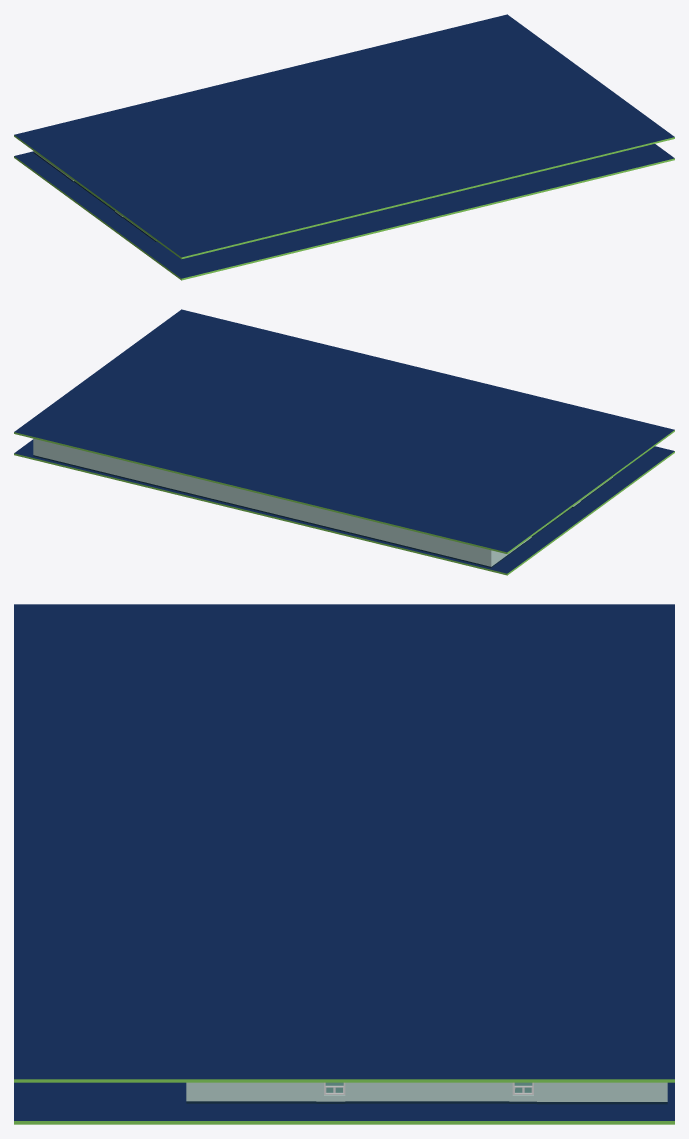
The model's file is 4F_Floor.fbx.
3 views of the same model, one above another, from view 1: azimuth 30°, elevation 25°; view 2: azimuth 150°, elevation 25°; view 3: azimuth 270°, elevation 25° (orthographic). The views are drawn at different scales.
Visible parts, largest first — view 1: 4_Ceiling, 4_Floor; view 2: 4_Ceiling, Room_01, 4_Floor; view 3: 4_Ceiling, 4_Floor, Room_04, Room_01, Room_05.
Boxes of the visible parts, <box> form: 4_Ceiling: <box>14,14,674,259</box>; 4_Floor: <box>14,144,674,280</box>; 4_Ceiling: <box>14,309,674,554</box>; Room_01: <box>33,438,523,567</box>; 4_Floor: <box>14,439,674,575</box>; 4_Ceiling: <box>14,604,674,1082</box>; 4_Floor: <box>14,1082,674,1124</box>; Room_04: <box>345,1082,509,1103</box>; Room_01: <box>537,1082,667,1104</box>; Room_05: <box>186,1082,316,1103</box>.
Bounding box in the file's own units: 85 × 3.8 × 50.
